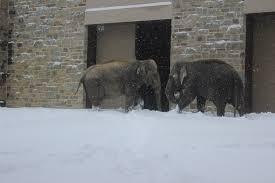elephant: (162, 59, 242, 115), (75, 59, 162, 110)
